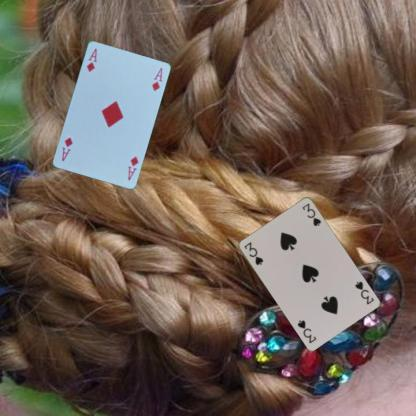3s: (352, 278, 375, 306), (242, 239, 264, 266)
Ad: (125, 153, 140, 182), (84, 45, 98, 73)
